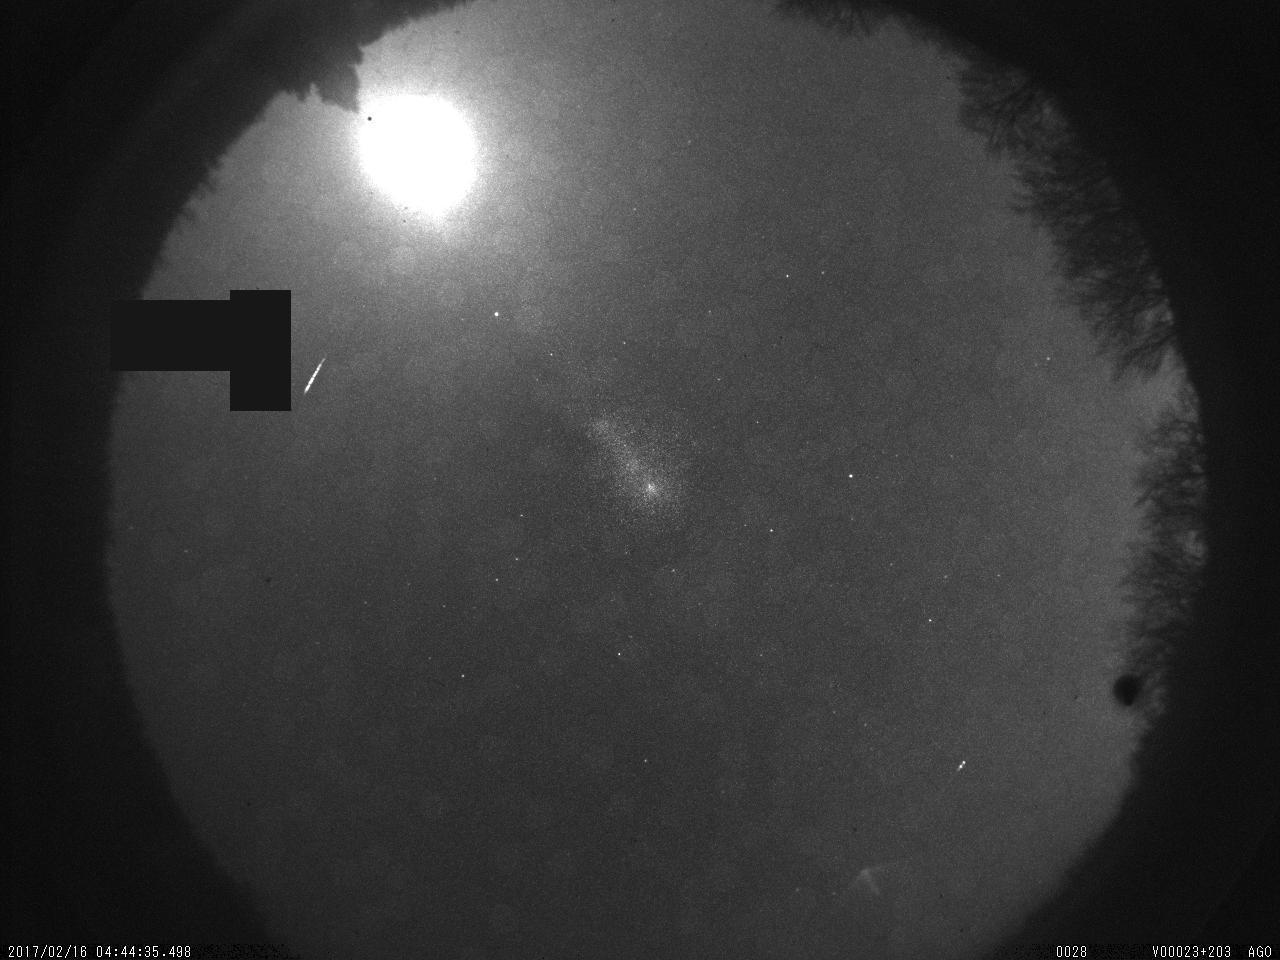meteor: (291, 343, 345, 400)
